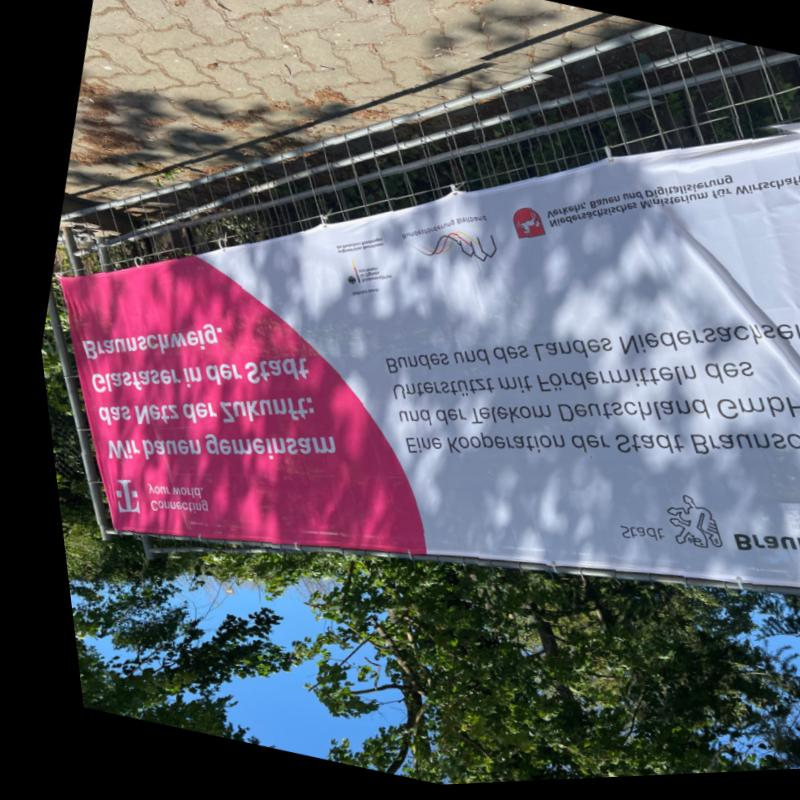Banner: (61, 148, 800, 589)
